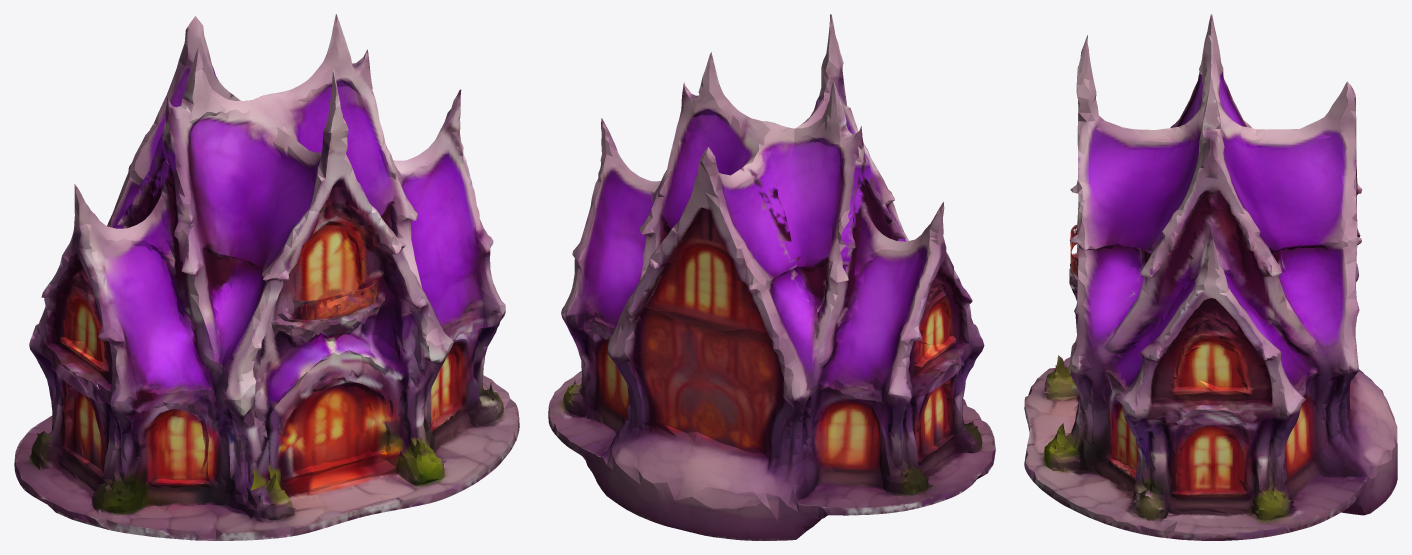
File: nightelf_barracks.glb
3 views of the same model, side by side, from view 1: azimuth 30°, elevation 25°; view 2: azimuth 150°, elevation 25°; view 3: azimuth 270°, elevation 25° (orthographic). The views are drawn at different scales.
Visible parts, largest first — view 1: NightElf_Barracks; view 2: NightElf_Barracks; view 3: NightElf_Barracks.
Part boxes in pixels (x1,y1,x2,y2): NightElf_Barracks: (14, 14, 519, 540); NightElf_Barracks: (548, 14, 995, 540); NightElf_Barracks: (1024, 14, 1397, 540).
Size of the model in its own units: 5.69 by 5.47 by 4.26.
Materials: 1 (1 with a texture image).
